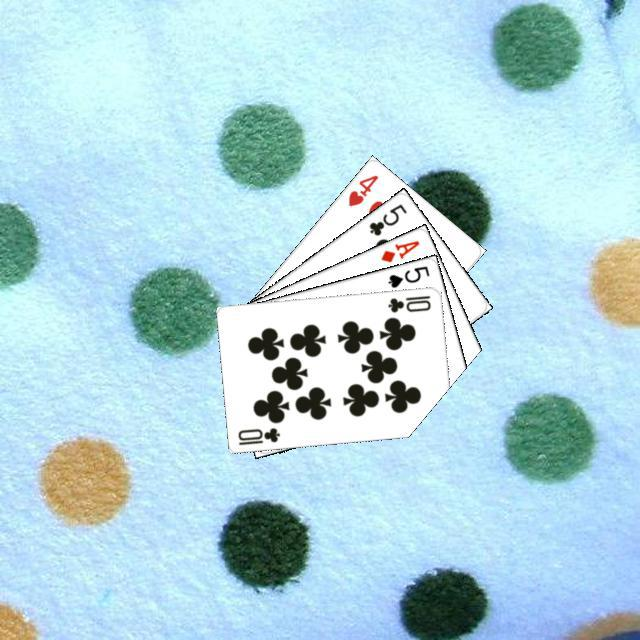10c: (383, 290, 432, 314), (233, 423, 282, 447)
4h: (343, 170, 380, 208)
5c: (364, 199, 408, 238)
5s: (383, 261, 431, 289)
Ad: (376, 235, 421, 264)
